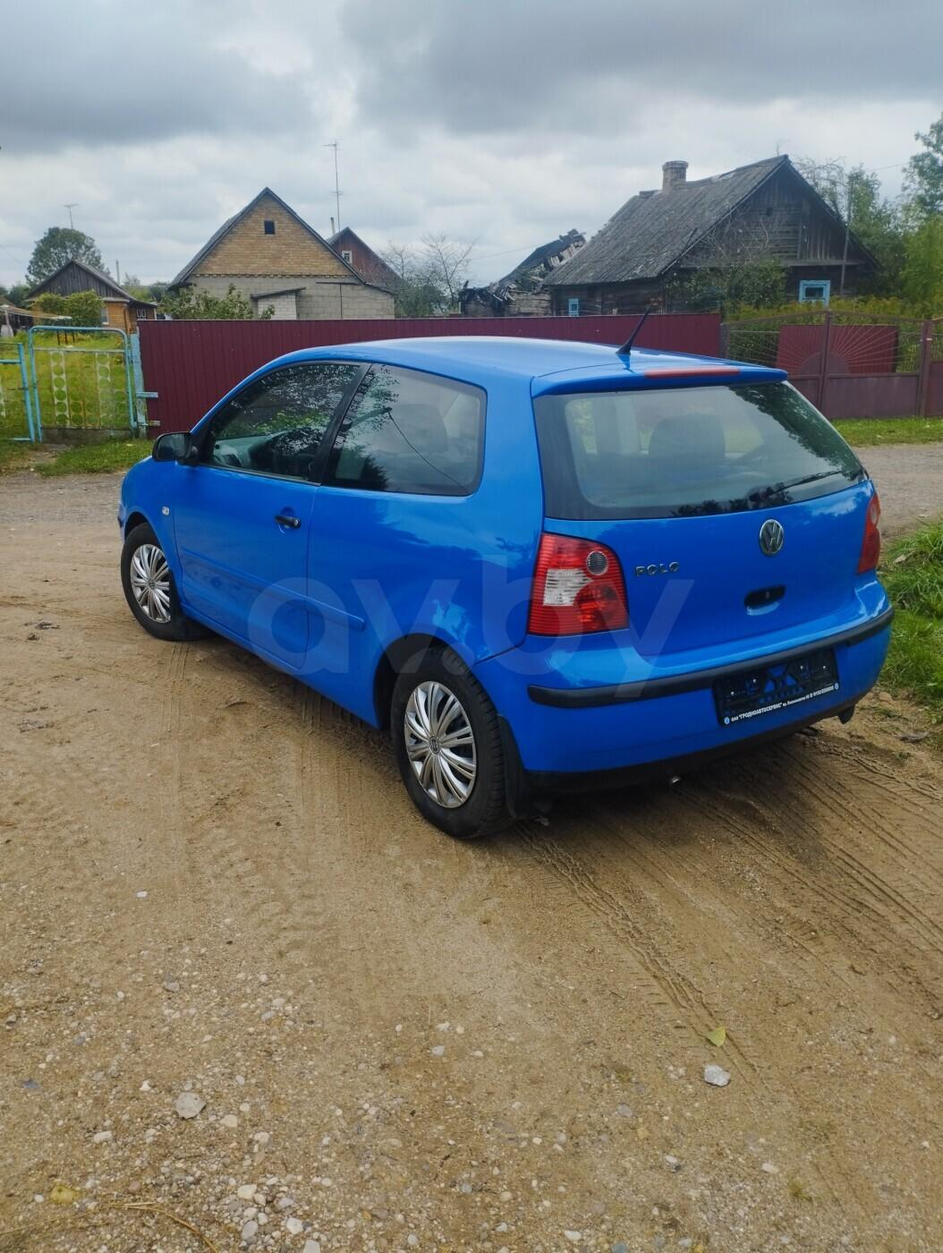Polo_2001-2005: (87, 320, 896, 852)
